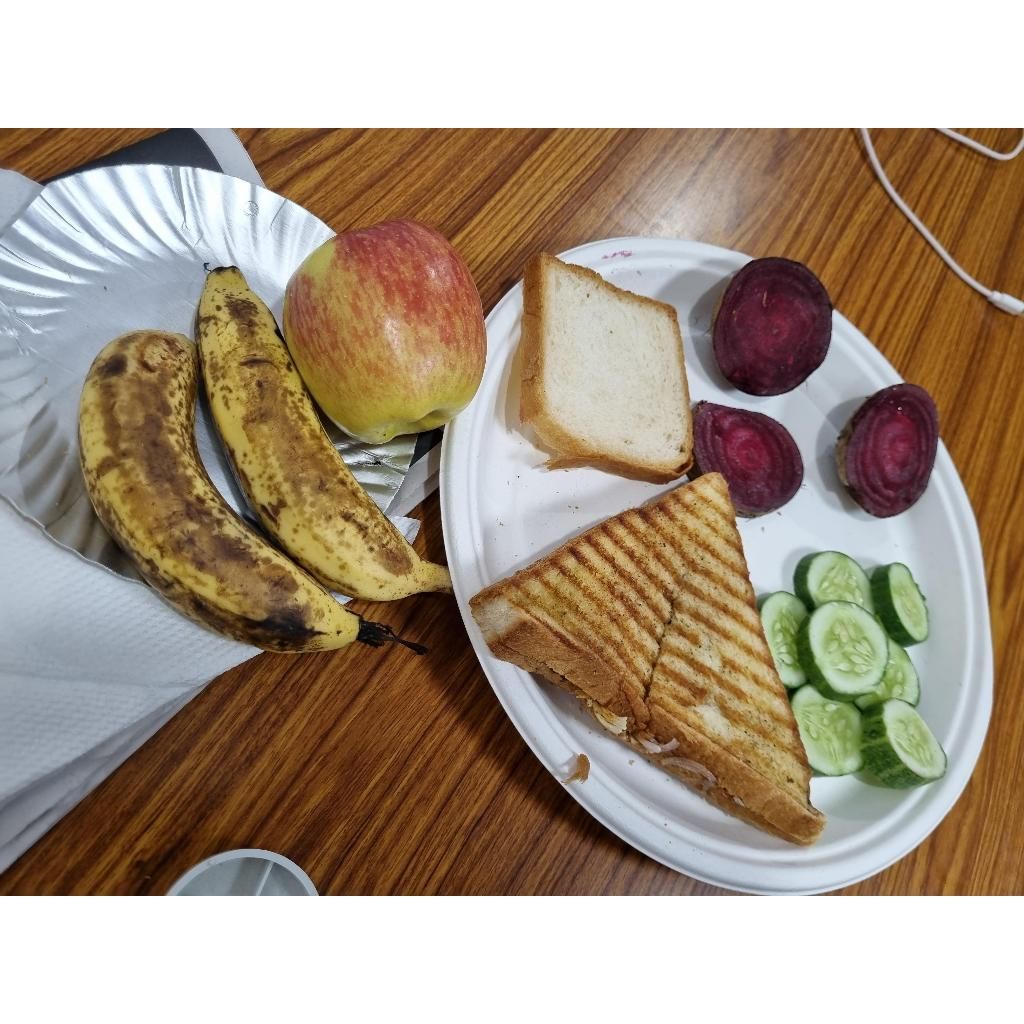apple: (277, 221, 488, 444)
banana: (77, 332, 362, 656), (192, 268, 448, 604)
cucumber: (852, 699, 946, 793), (805, 604, 897, 697), (790, 687, 866, 781), (757, 592, 819, 695), (866, 564, 934, 651), (795, 551, 873, 611), (865, 646, 918, 705)
